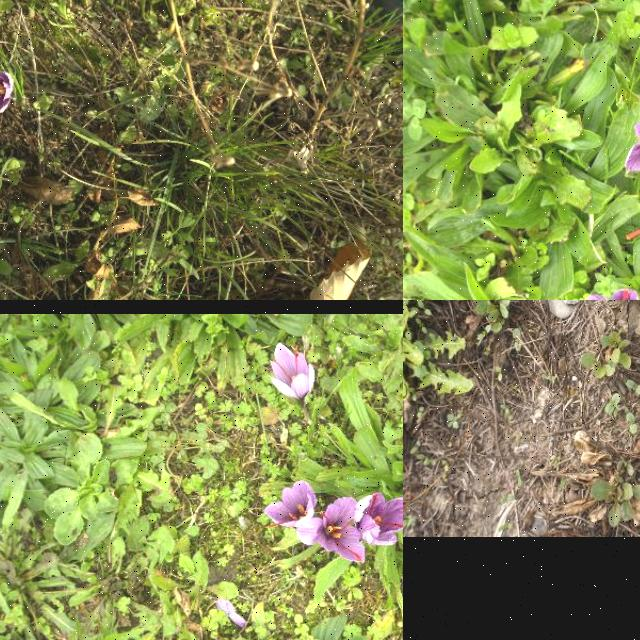flower: (298, 498, 366, 564), (268, 342, 316, 404), (264, 480, 318, 528), (354, 494, 403, 546), (0, 69, 11, 116)
